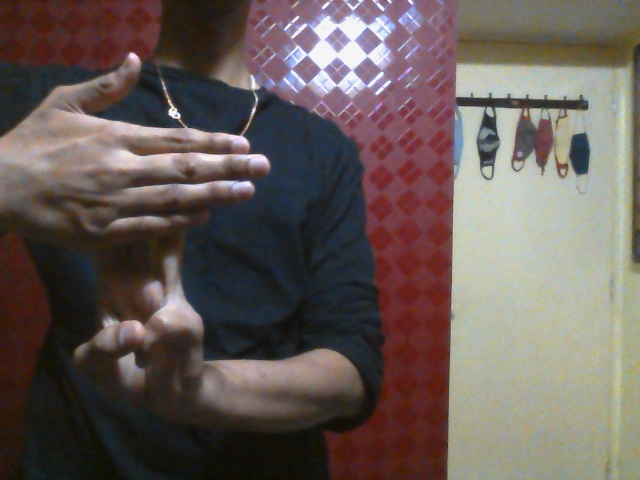M: (25, 52, 271, 411)
